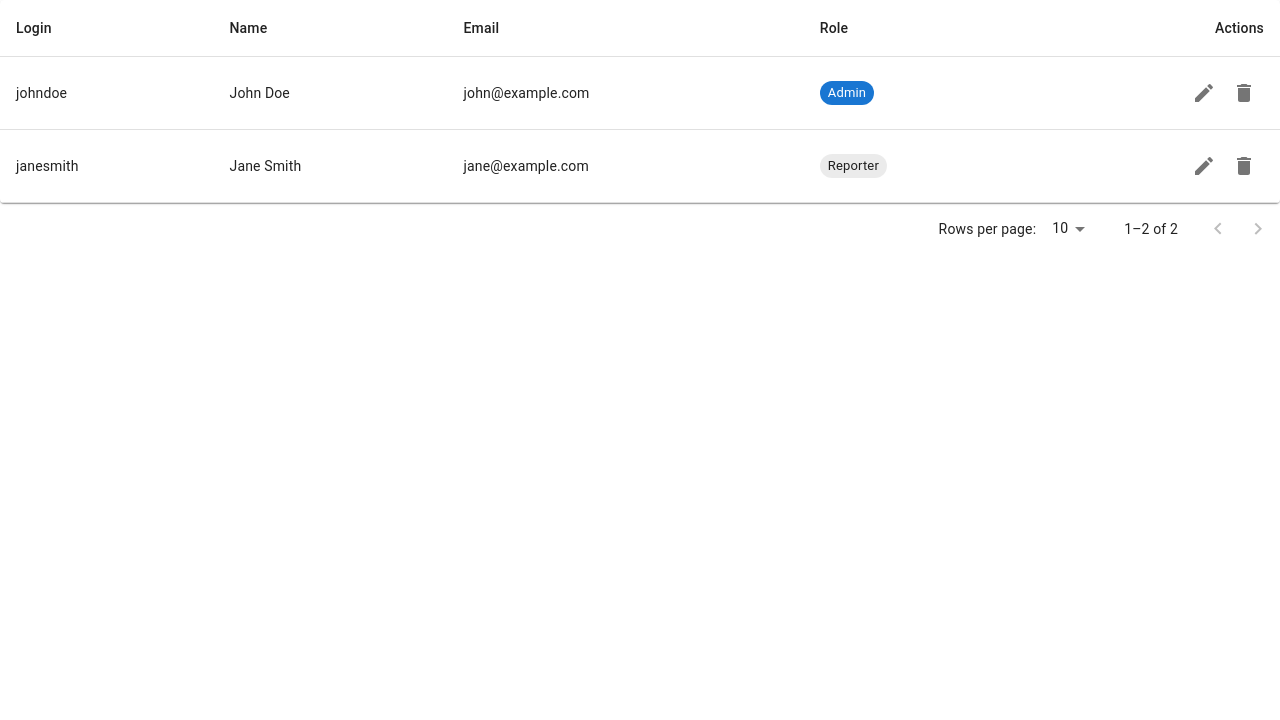
Test: UserTable › shows loading state while deleting
Click the button with test id "delete-user-1": (1244, 93) [1224,73,1264,113]
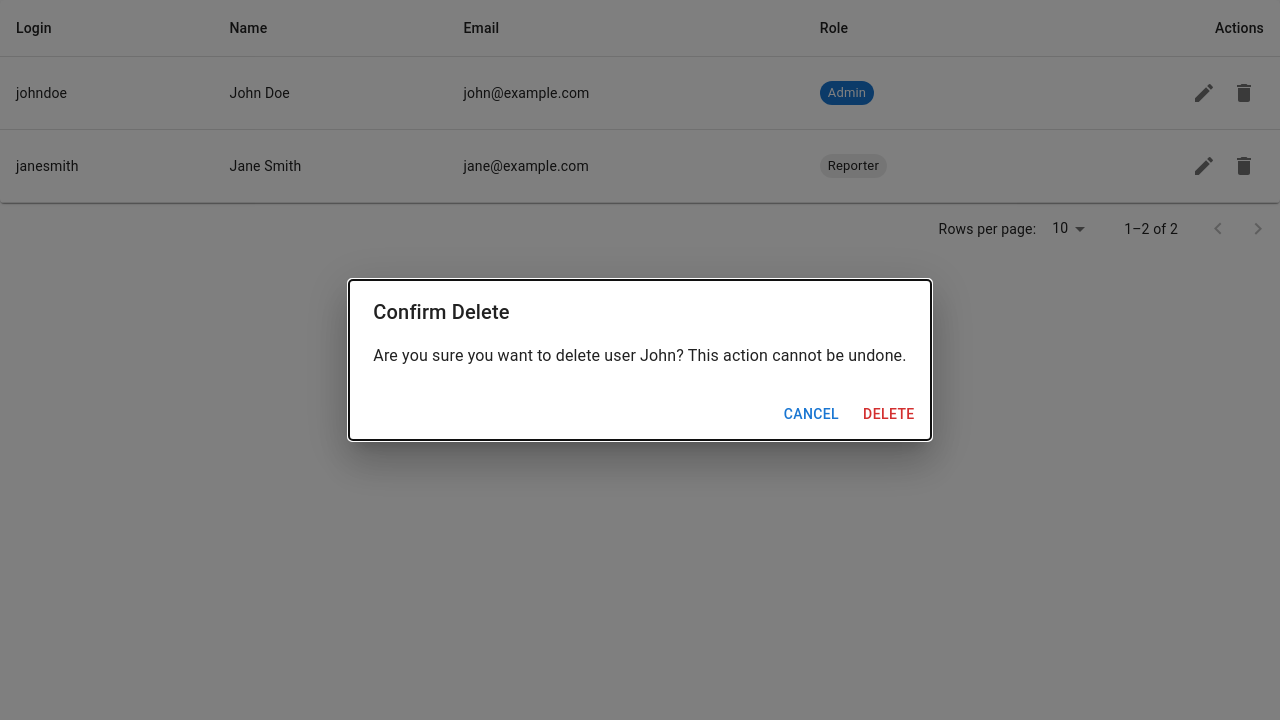
Expected: the text with test id "delete-confirmation-text" is shown, [373,344,907,368]
Click the button with test id "confirm-delete-button": (889, 414) [855,396,923,432]
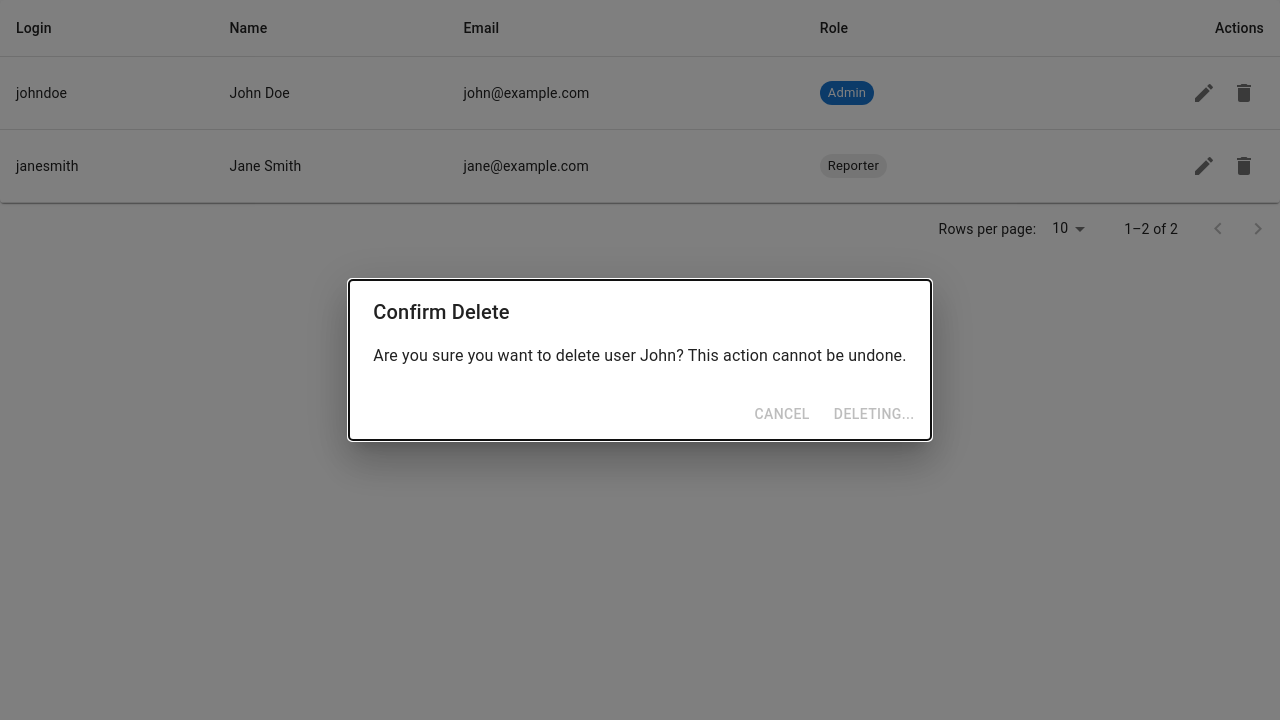
Expected: the button with test id "confirm-delete-button" reads "Deleting...", [826,396,923,432]
Expected: the button with test id "confirm-delete-button" is disabled, [826,396,923,432]
